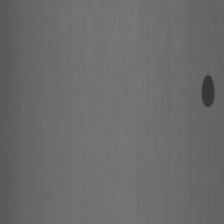oil_spot: (200, 67, 217, 117)
